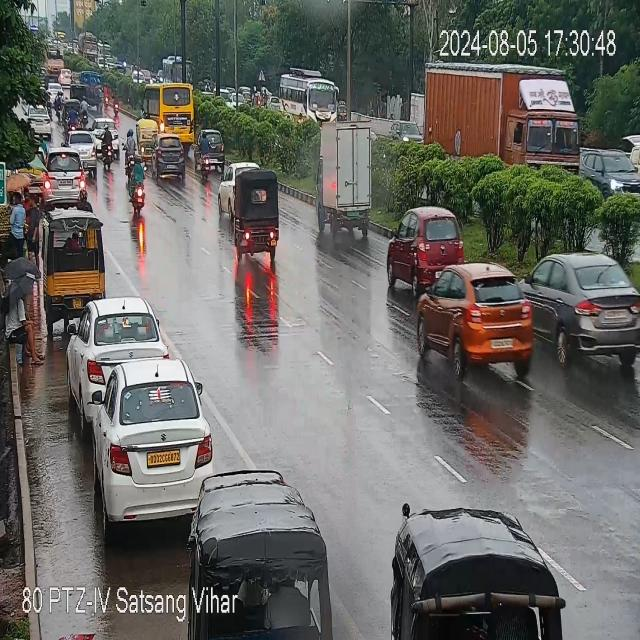2-wheelers: (127, 160, 148, 212), (97, 126, 118, 170), (197, 132, 210, 180), (126, 130, 140, 169)
auto: (194, 471, 334, 640), (389, 517, 564, 639), (44, 216, 108, 315), (234, 172, 284, 256), (137, 120, 161, 153), (62, 101, 82, 127), (69, 81, 83, 100)
bus: (277, 66, 340, 124), (141, 81, 199, 136), (163, 56, 194, 83)
car: (87, 361, 213, 528), (415, 264, 544, 377), (531, 246, 638, 364), (69, 298, 163, 399), (386, 207, 466, 290), (44, 152, 92, 209), (585, 145, 640, 194), (152, 136, 186, 182), (18, 102, 58, 138), (198, 130, 228, 173), (66, 130, 96, 172), (216, 165, 234, 217), (92, 117, 118, 144)
pedestrian: (0, 280, 41, 364), (8, 191, 27, 259), (26, 192, 42, 271)
truck: (410, 66, 584, 179), (320, 126, 373, 242), (78, 33, 98, 64), (84, 72, 103, 100), (115, 87, 121, 116)
